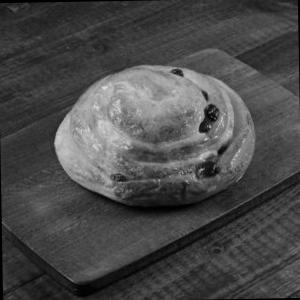bread: (49, 57, 260, 204)
